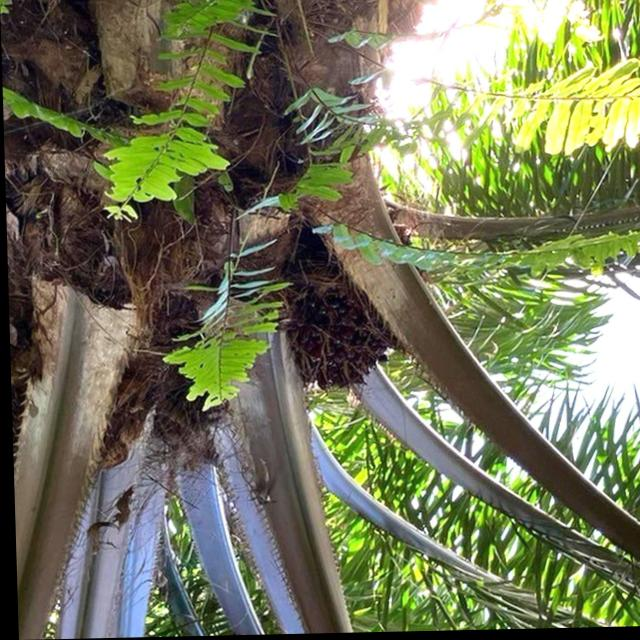ripe: (267, 239, 403, 392)
